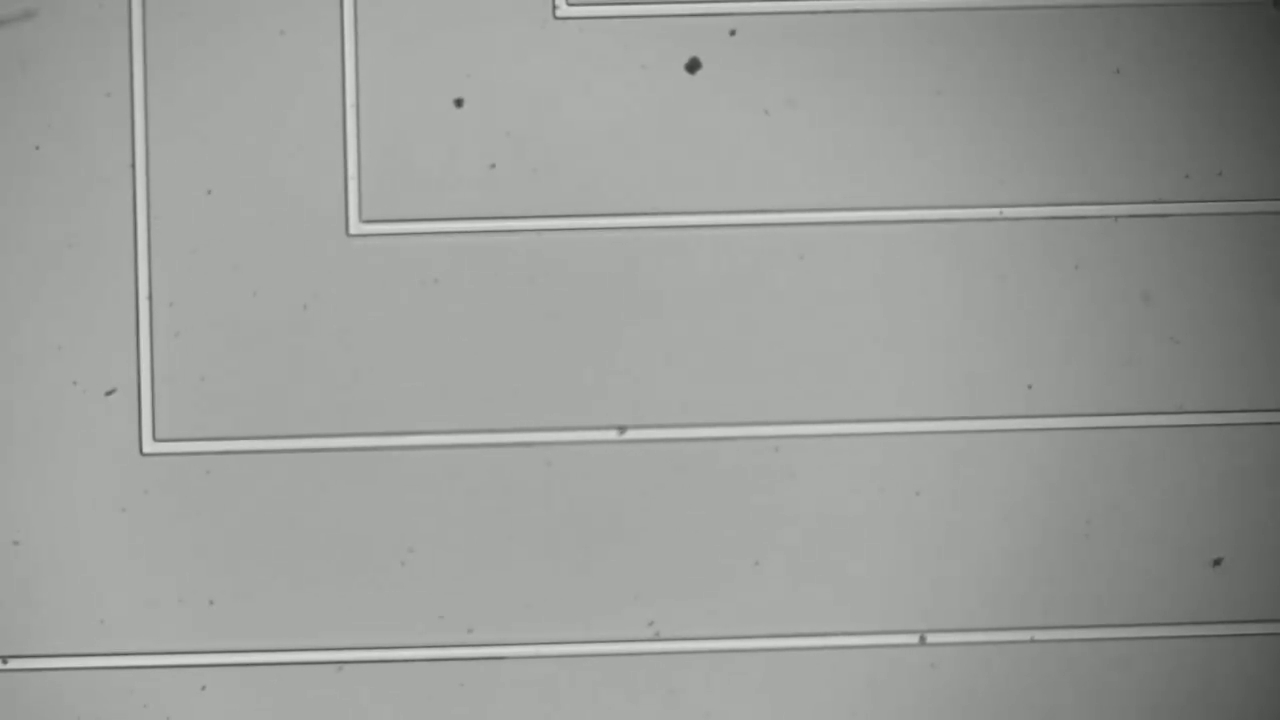stains_enbedded: (609, 416, 637, 453), (909, 622, 935, 653)
